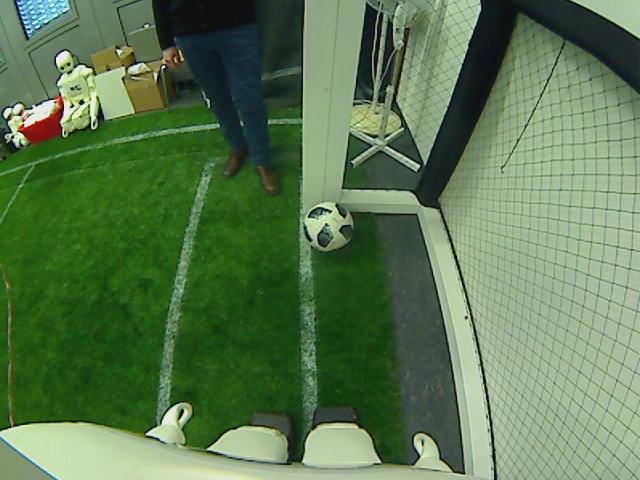ball: (304, 198, 354, 252)
